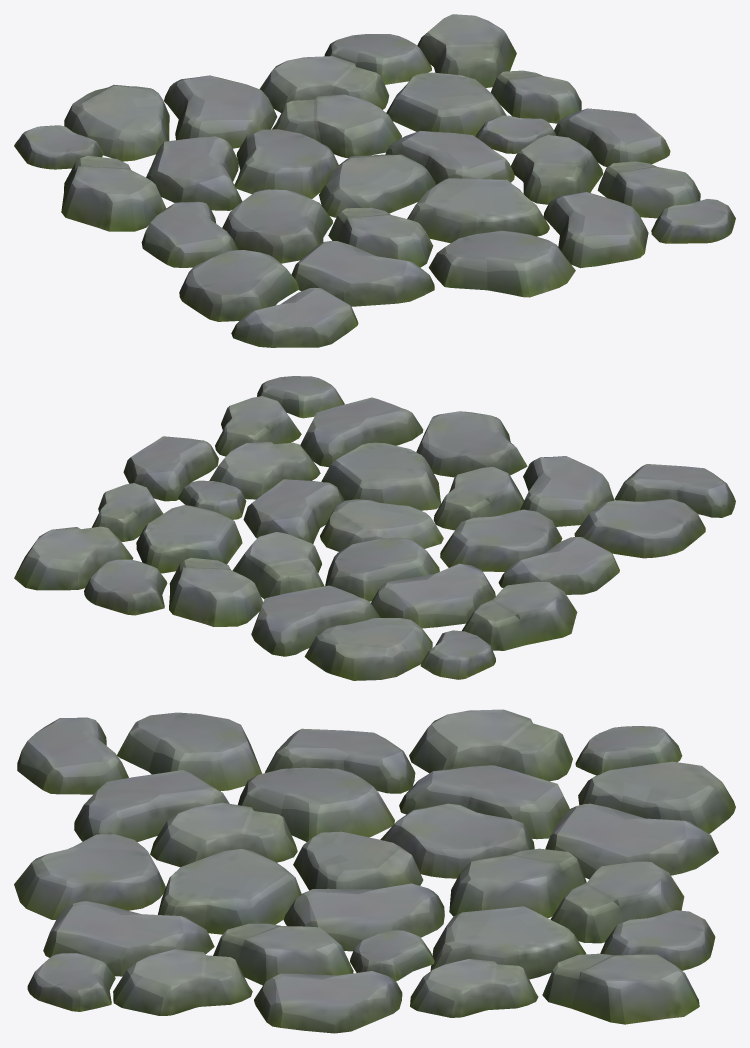
Rendered from bridge-1.glb.
The picture shows the model from 3 angles, top to bottom: view 1: azimuth 30°, elevation 25°; view 2: azimuth 150°, elevation 25°; view 3: azimuth 270°, elevation 25°; orthographic projection. The views are drawn at different scales.
Visible parts, largest first — view 1: RockPath_Round_Wide; view 2: RockPath_Round_Wide; view 3: RockPath_Round_Wide.
Boxes of the visible parts, bbox=[...] form: RockPath_Round_Wide: bbox=[14, 14, 735, 347]; RockPath_Round_Wide: bbox=[14, 376, 735, 680]; RockPath_Round_Wide: bbox=[14, 709, 735, 1033].
Bounding box in the file's own units: 2.24 × 0.12 × 2.26.
Materials: 1 (1 with a texture image).
